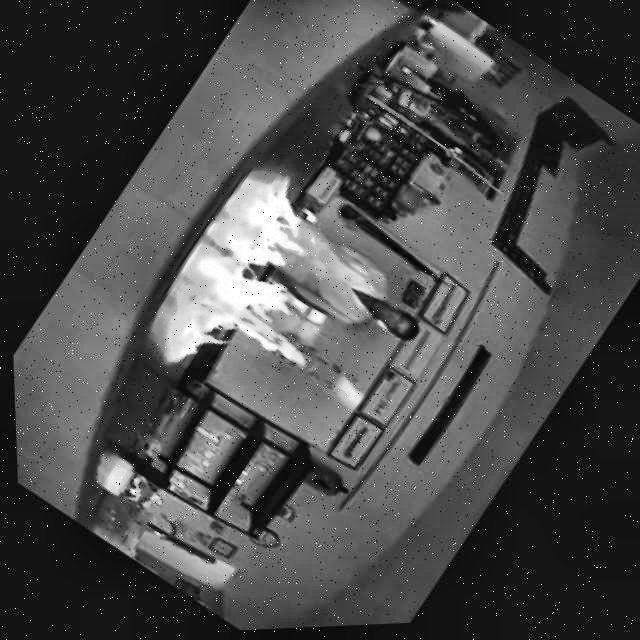Fire: (148, 167, 393, 436)
